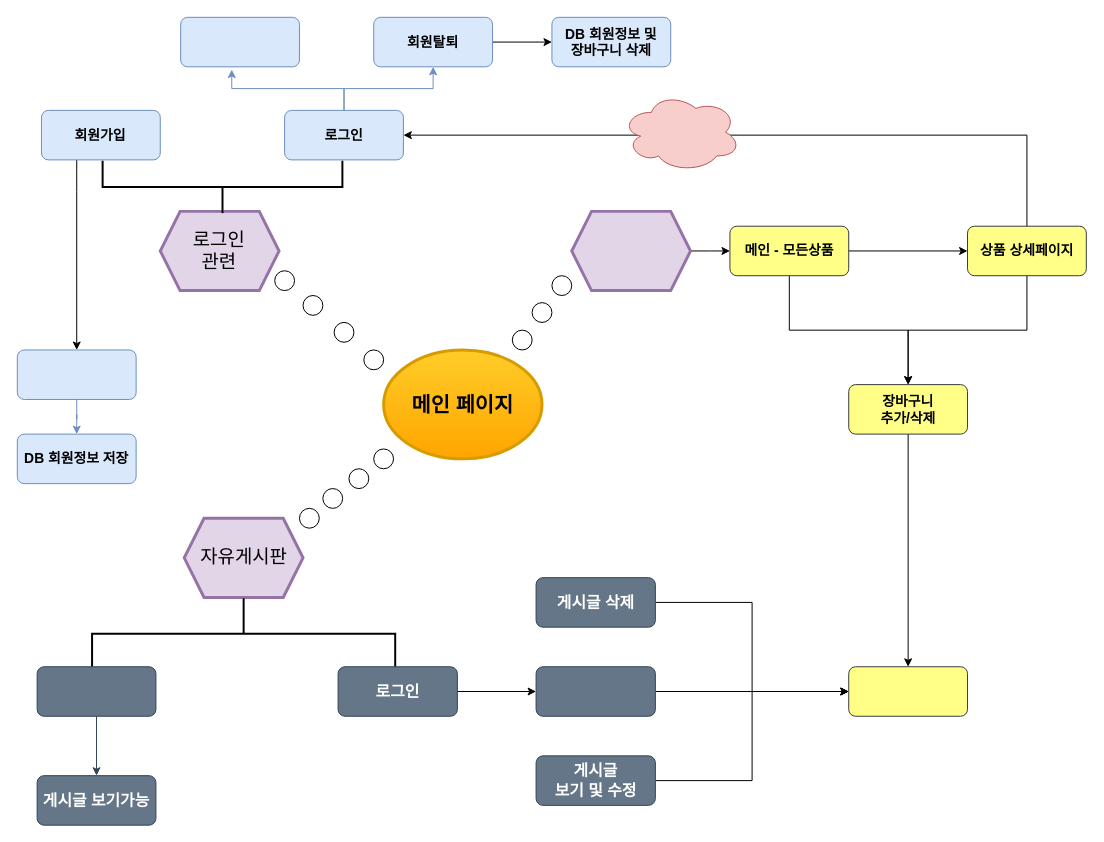
This 1104x842 diagram has some shape labels left out. Here are the shapes that lost their labels. From the top down, the centre of each, then its label:
At point (239, 41): "로그아웃".
At point (681, 132): "비로그인시".
At point (631, 250): "상품 관련".
At point (76, 374): "ID 중복체크".
At point (96, 691): "비로그인".
At point (595, 691): "게시글 작성".
At point (908, 691): "DB에서 저장/삭제".
